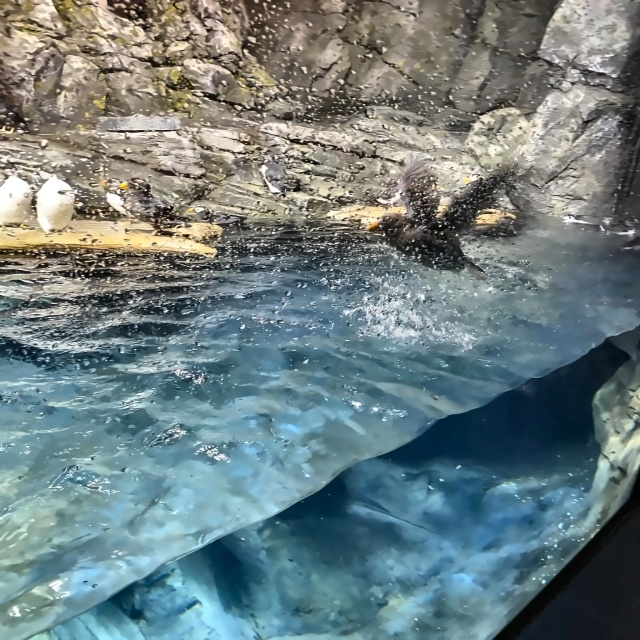puffin: (365, 171, 499, 278), (112, 179, 169, 242), (95, 174, 140, 225), (179, 202, 238, 237), (256, 157, 294, 196)
